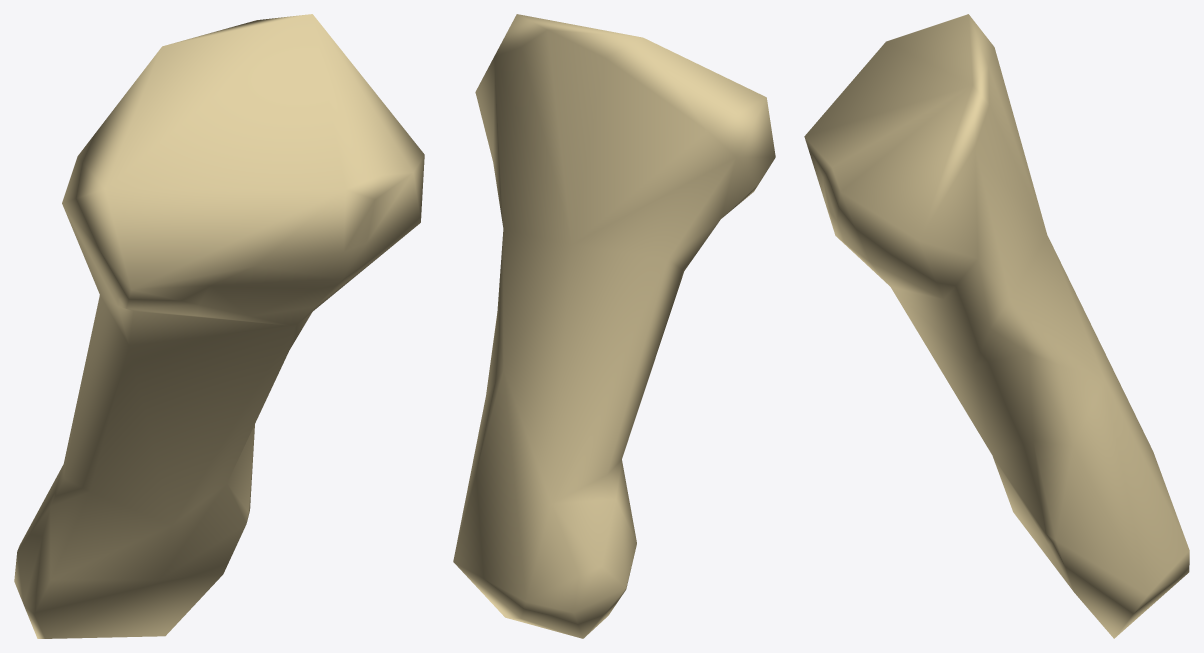
3 views of the same model, side by side, from view 1: azimuth 30°, elevation 25°; view 2: azimuth 150°, elevation 25°; view 3: azimuth 270°, elevation 25° (orthographic). The views are drawn at different scales.
Visible parts, largest first — view 1: 右侧第四指远节指骨; view 2: 右侧第四指远节指骨; view 3: 右侧第四指远节指骨.
Boxes of the visible parts, x1,y1,x2,y2 form: 右侧第四指远节指骨: (14,14,424,638); 右侧第四指远节指骨: (453,14,775,638); 右侧第四指远节指骨: (804,14,1189,638).
Bounding box in the file's own units: 0.0127 × 0.0238 × 0.0142.
